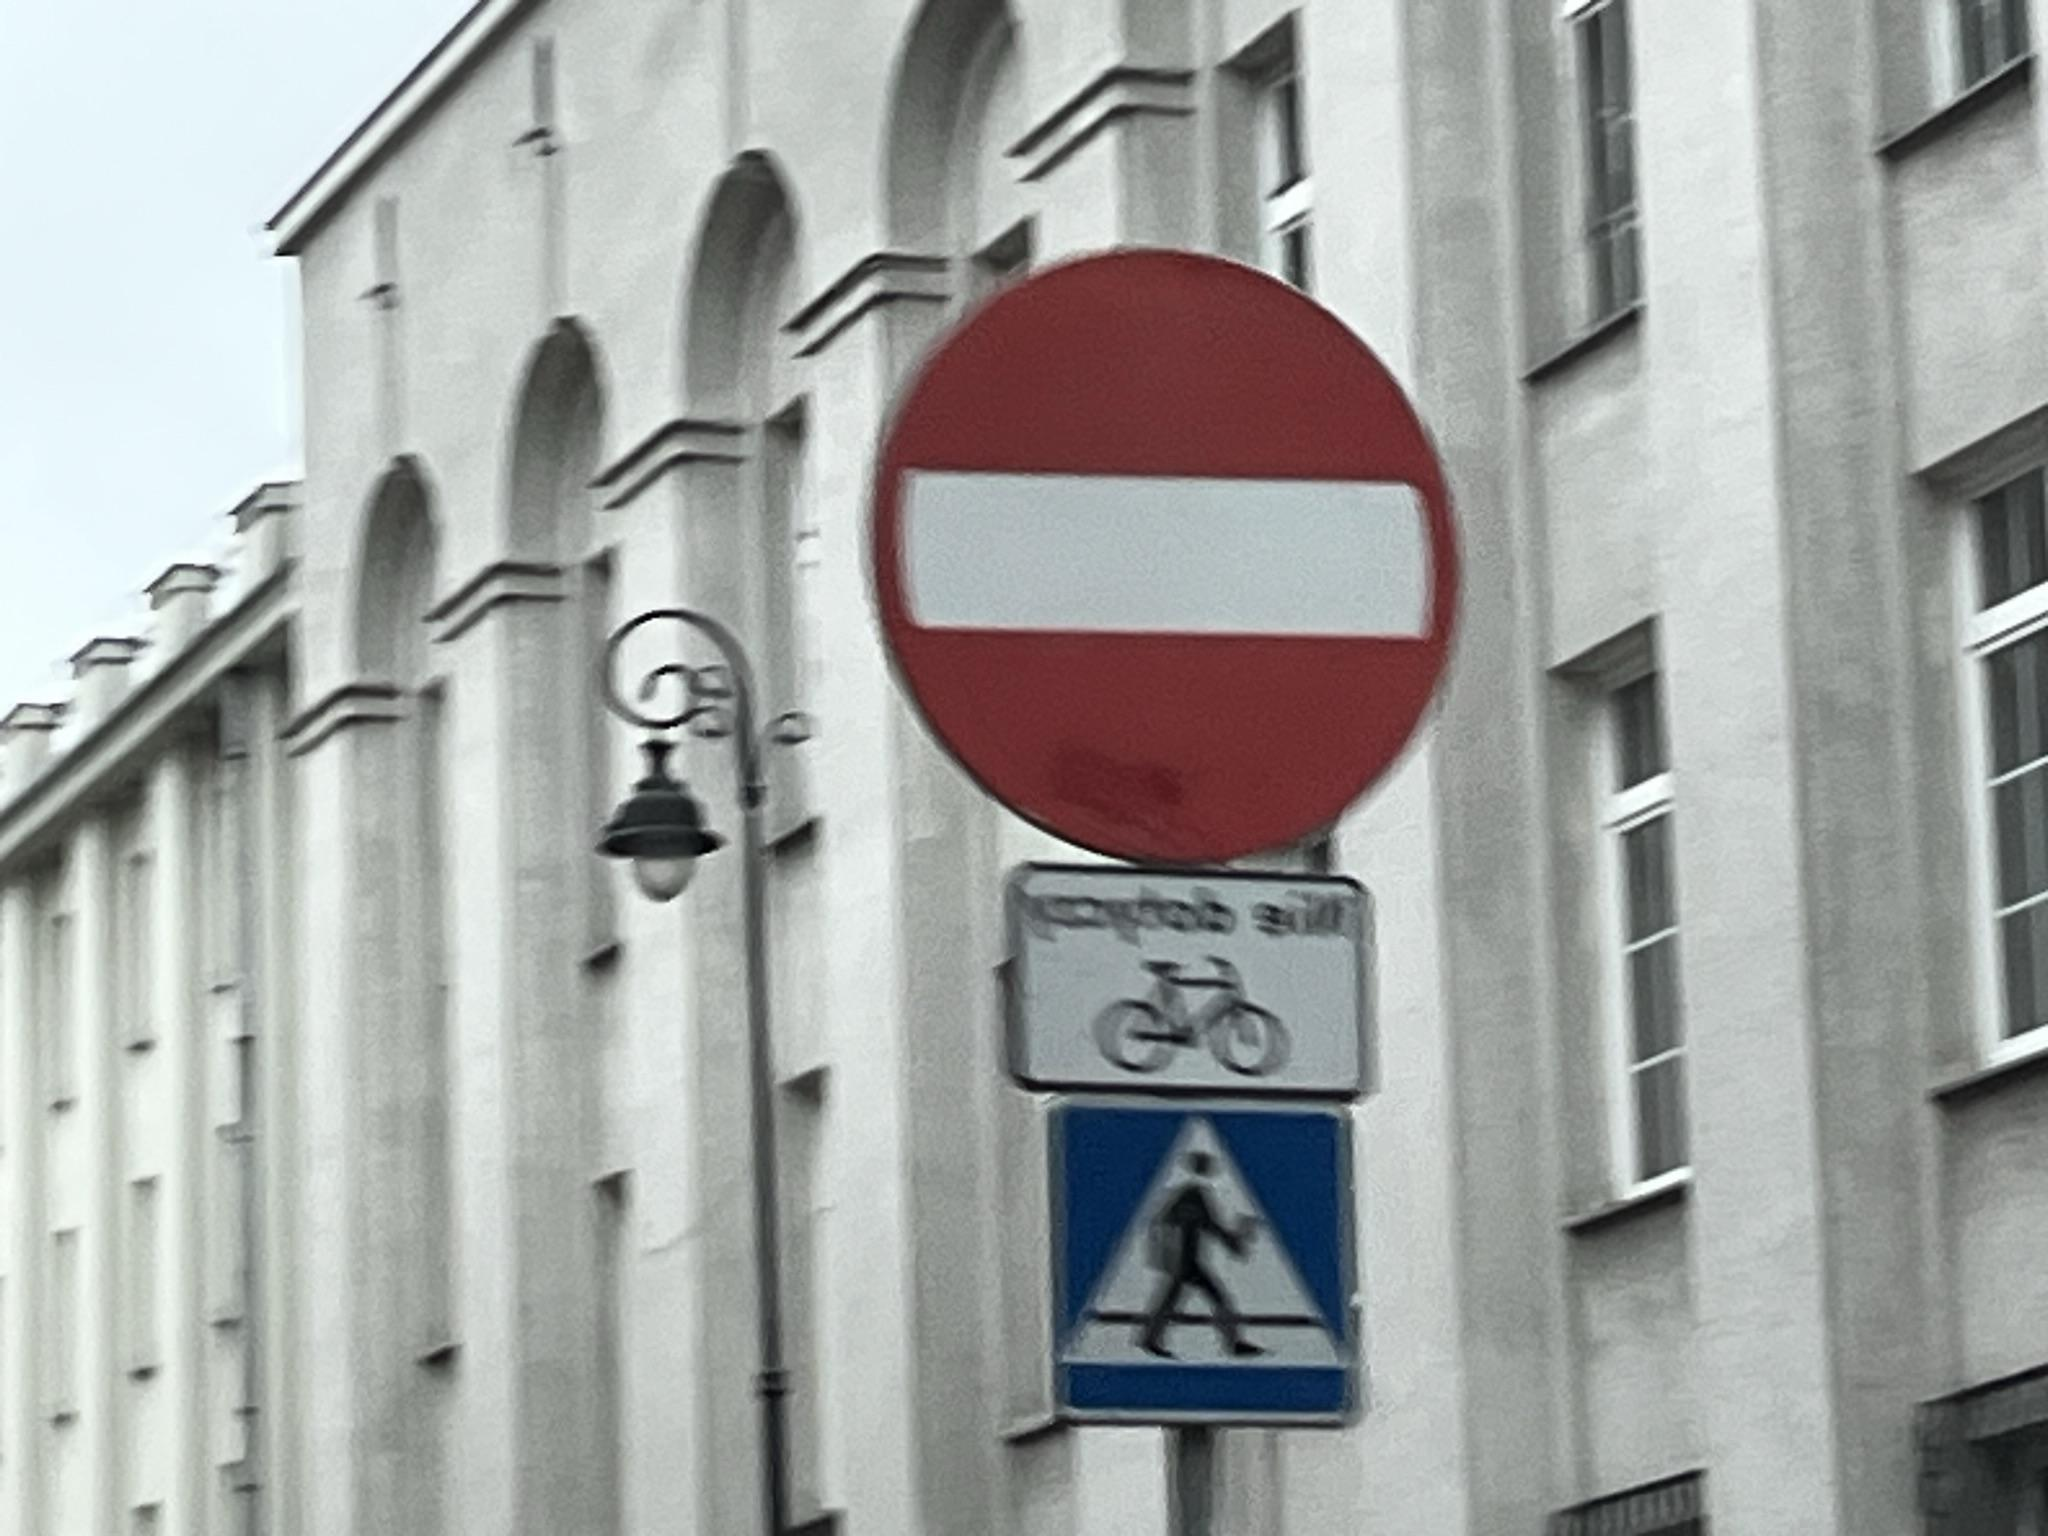information: (1047, 1102, 1359, 1433)
other: (1005, 868, 1379, 1099)
prohibitory: (864, 242, 1471, 865)
